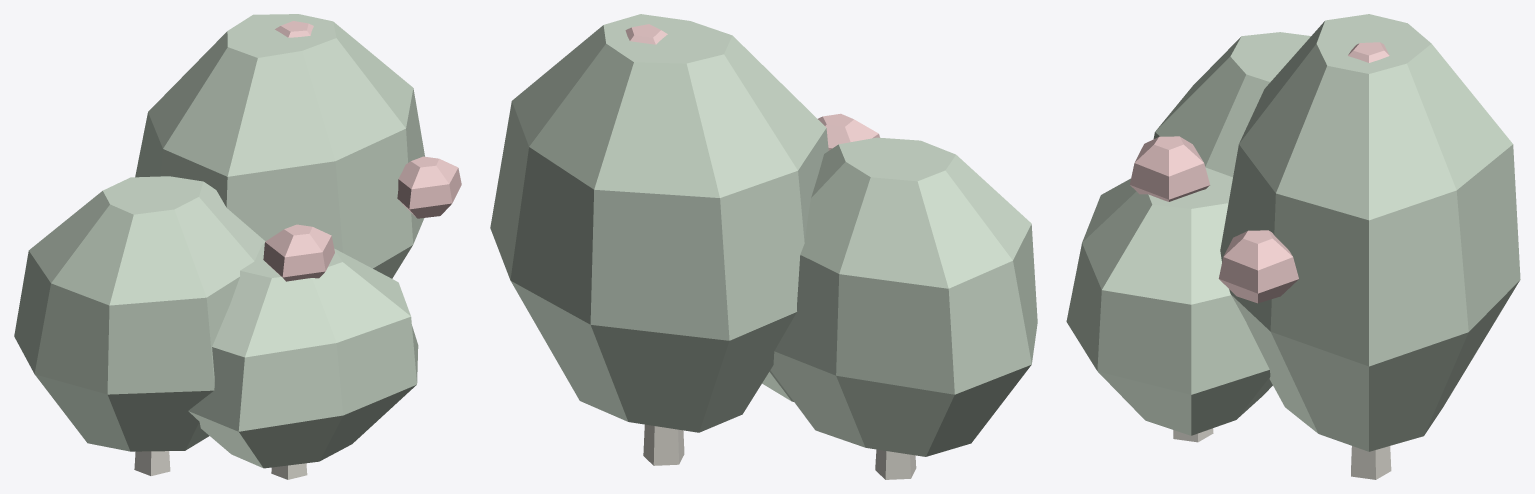
File: flower_shrub.glb
The picture shows the model from 3 angles, left to right: view 1: azimuth 30°, elevation 25°; view 2: azimuth 150°, elevation 25°; view 3: azimuth 270°, elevation 25°; orthographic projection. The views are drawn at different scales.
Visible parts, largest first — view 1: flower_shrub; view 2: flower_shrub; view 3: flower_shrub.
Boxes of the visible parts, <box> form: flower_shrub: <box>14,14,461,479</box>; flower_shrub: <box>490,14,1037,479</box>; flower_shrub: <box>1066,14,1520,479</box>.
Bounding box in the file's own units: 1.65 × 1.34 × 1.28.
